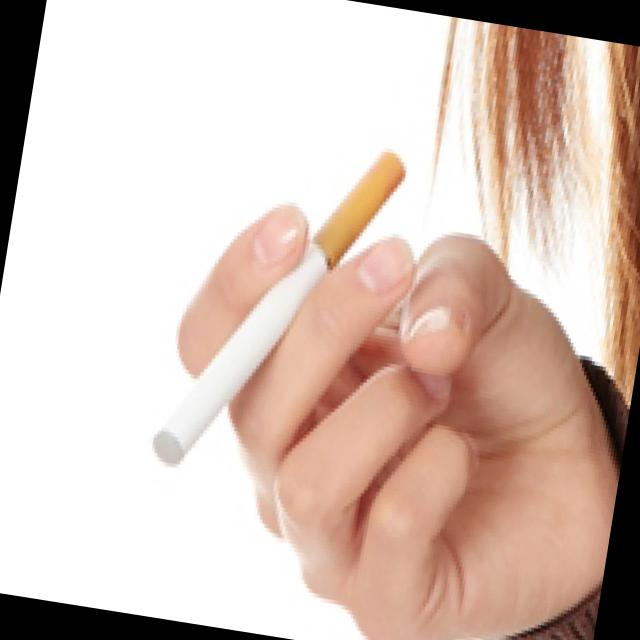cigarette: (148, 256, 288, 483)
